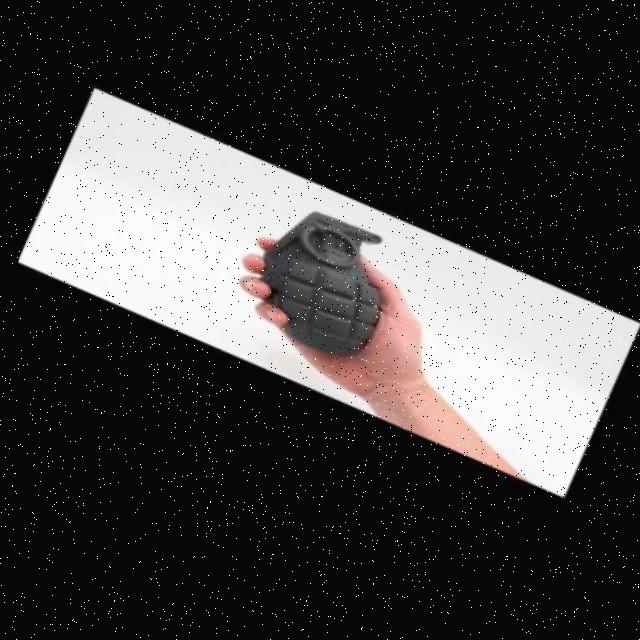grenade: (220, 180, 430, 397)
